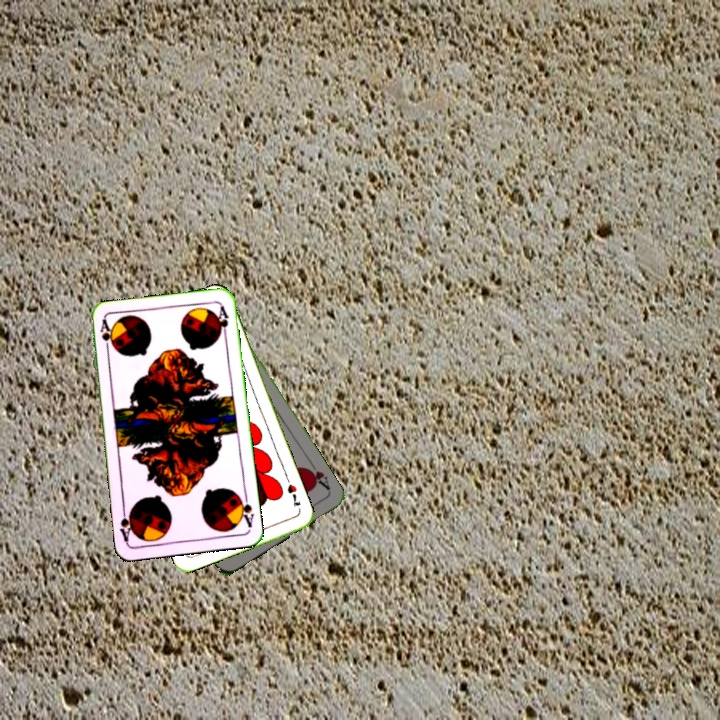H7: (283, 480, 303, 509)
HA: (301, 457, 333, 493)
SA: (234, 489, 256, 530), (96, 316, 114, 357)
